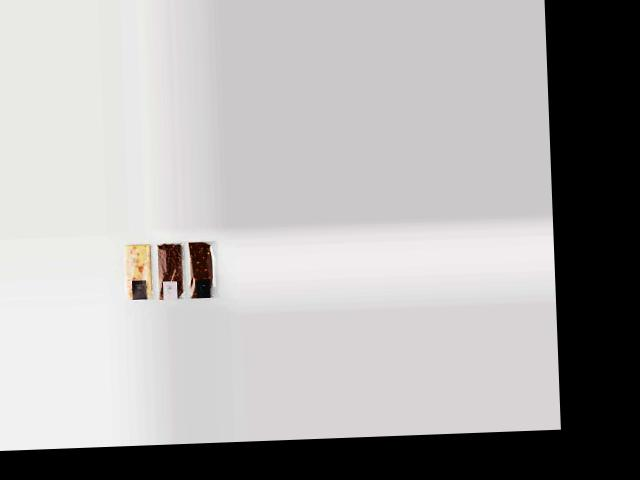chocolate: (189, 238, 218, 298)
